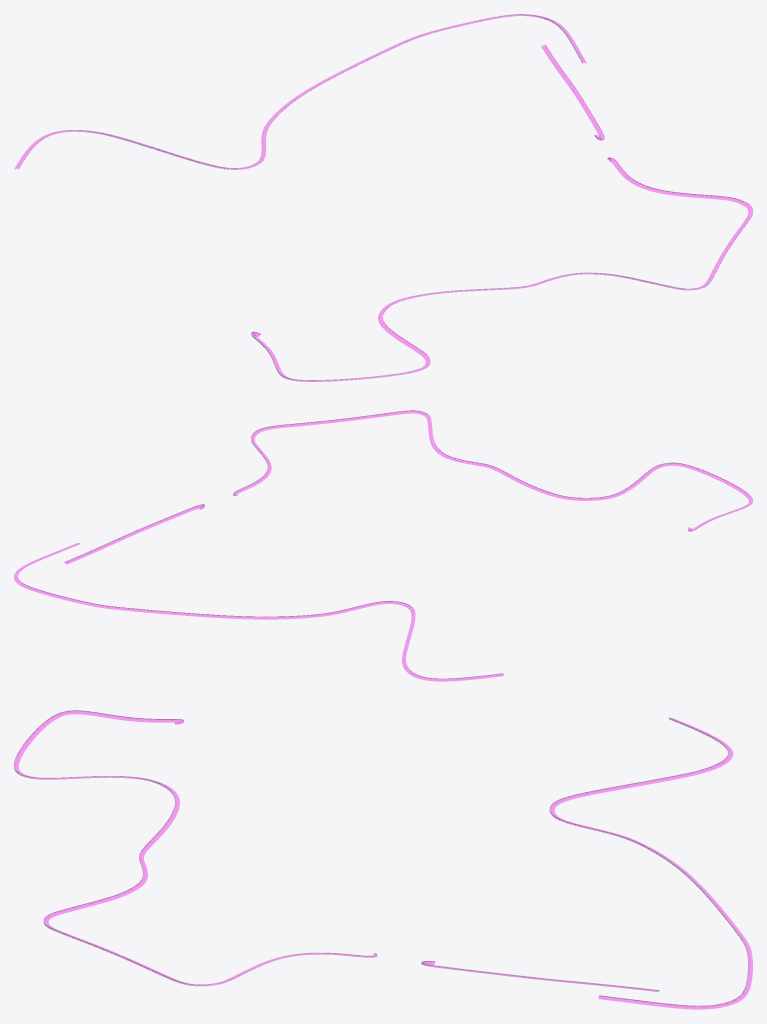
Rendered from GuardRail.glb.
The picture shows the model from 3 angles, top to bottom: view 1: azimuth 30°, elevation 25°; view 2: azimuth 150°, elevation 25°; view 3: azimuth 270°, elevation 25°; orthographic projection. The views are drawn at different scales.
Visible parts, largest first — view 1: Bumper-col.001, Bumper-col, GuardRail.001, GuardRail; view 2: Bumper-col.001, Bumper-col, GuardRail.001, GuardRail, Bumper-col.002; view 3: Bumper-col.001, Bumper-col, GuardRail.001, GuardRail, Bumper-col.002.
Boxes of the visible parts, box(x1,y1,x2,y2) form: Bumper-col.001: box(251, 158, 752, 381); Bumper-col: box(14, 14, 586, 169); GuardRail.001: box(251, 157, 752, 381); GuardRail: box(18, 14, 582, 169); Bumper-col.001: box(233, 410, 752, 531); Bumper-col: box(14, 543, 503, 681); GuardRail.001: box(233, 410, 752, 530); GuardRail: box(17, 543, 502, 678); Bumper-col.002: box(64, 504, 204, 564); Bumper-col.001: box(14, 710, 376, 985); Bumper-col: box(550, 718, 752, 1009); GuardRail.001: box(14, 710, 377, 985); GuardRail: box(549, 718, 748, 1006); Bumper-col.002: box(421, 961, 659, 991).
Bounding box in the file's own units: 667 × 3.75 × 700.
Materials: 6 (3 with a texture image).
